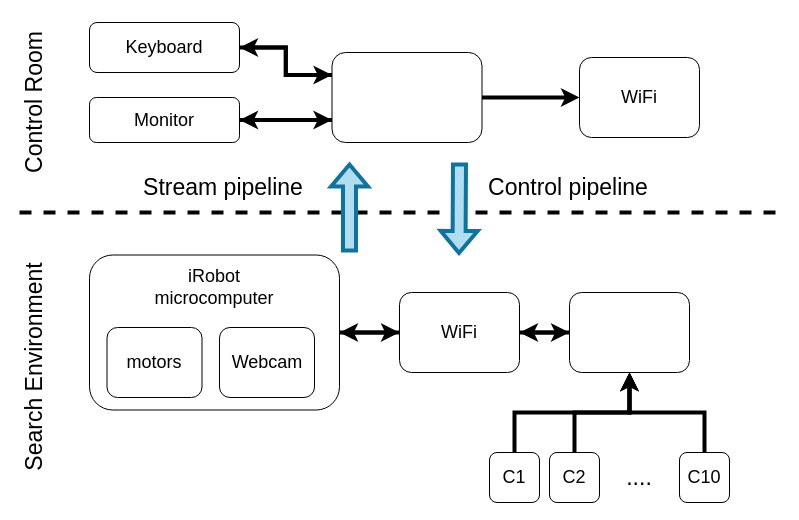
This 799x520 diagram has some shape labels left out. The shapes that lost their labels are listed below. From the top down, each one's centre as x and y in pixels, then its label:
At point 406,97: "Teleoperation computer".
At point 629,332: "Tracking Computer".
